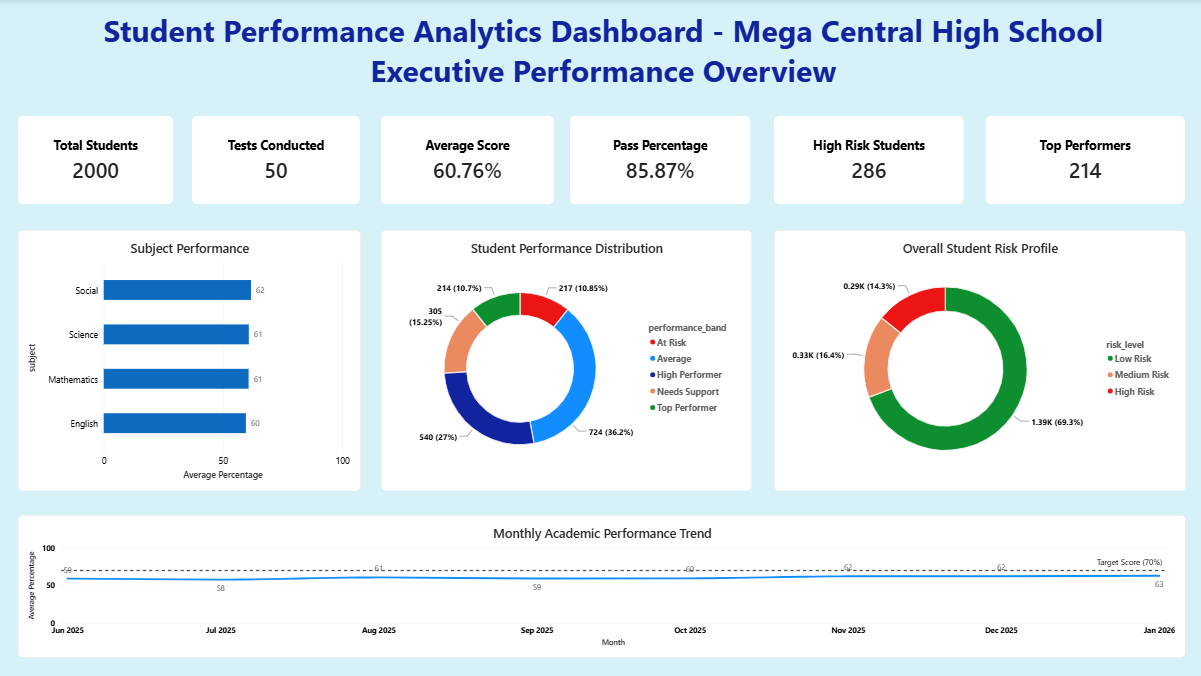

The dashboard page shown, as its layout file describes it:
{"tool":"powerbi","page":{"name":"Executive Performance Overview","canvas":[1920,1080],"ordinal":1},"visuals":[{"type":"textbox","box":[10,0,280,280],"z":0},{"type":"textbox","box":[10,17.5,1910,147.5],"z":1000},{"type":"cardVisual","title":"Total Students","fields":{"Data":["students.Total Students"]},"box":[32.5,185,247.5,140],"z":2000},{"type":"cardVisual","title":"Total Students","fields":{"Data":["tests.Total Tests"]},"box":[310,185,267.5,140],"z":3000},{"type":"cardVisual","title":"Total Students","fields":{"Data":["student_progress.Average Score"]},"box":[610,185,275,140],"z":4000},{"type":"cardVisual","title":"Total Students","fields":{"Data":["scores.Pass Percentage"]},"box":[912.5,185,287.5,140],"z":5000},{"type":"cardVisual","title":"Total Students","fields":{"Data":["student_risk_report.At Risk Students"]},"box":[1235,185,302.5,140],"z":6000},{"type":"clusteredBarChart","title":"Subject Performance","fields":{"Category":["scores.subject"],"Y":["scores.Average Percentage"]},"box":[32.5,367.5,545,415],"z":7000},{"type":"cardVisual","title":"Total Students","fields":{"Data":["student_progress.Top Performers"]},"box":[1572.5,185,317.5,140],"z":8000},{"type":"donutChart","title":"Student Performance Distribution","fields":{"Category":["student_progress.performance_band"],"Y":["CountNonNull(student_progress.student_id)"]},"box":[610,367.5,590,415],"z":9000},{"type":"lineChart","title":"Monthly Academic Performance Trend","fields":{"Category":["DateTable.Date.Variation.Date Hierarchy.Year","DateTable.Date.Variation.Date Hierarchy.Quarter","DateTable.Date.Variation.Date Hierarchy.Month"],"Y":["scores.Average Percentage"]},"box":[32.5,820,1857.5,227.5],"z":10000},{"type":"donutChart","title":"Overall Student Risk Profile","fields":{"Category":["student_risk_report.risk_level"],"Y":["CountNonNull(student_progress.student_id)"]},"box":[1235,367.5,655,415],"z":11000}]}

Visuals, with their boxes in screenshot pixels (x1, y1, x2, y2), scaled from the page's 1920x1080 canvas onto the 1201x676 screenshot:
textbox: <bbox>6, 0, 181, 175</bbox>
textbox: <bbox>6, 11, 1200, 103</bbox>
"Total Students" cardVisual: <bbox>20, 116, 175, 203</bbox>
"Total Students" cardVisual: <bbox>194, 116, 361, 203</bbox>
"Total Students" cardVisual: <bbox>382, 116, 554, 203</bbox>
"Total Students" cardVisual: <bbox>571, 116, 751, 203</bbox>
"Total Students" cardVisual: <bbox>773, 116, 962, 203</bbox>
"Subject Performance" clusteredBarChart: <bbox>20, 230, 361, 490</bbox>
"Total Students" cardVisual: <bbox>984, 116, 1182, 203</bbox>
"Student Performance Distribution" donutChart: <bbox>382, 230, 751, 490</bbox>
"Monthly Academic Performance Trend" lineChart: <bbox>20, 513, 1182, 656</bbox>
"Overall Student Risk Profile" donutChart: <bbox>773, 230, 1182, 490</bbox>
